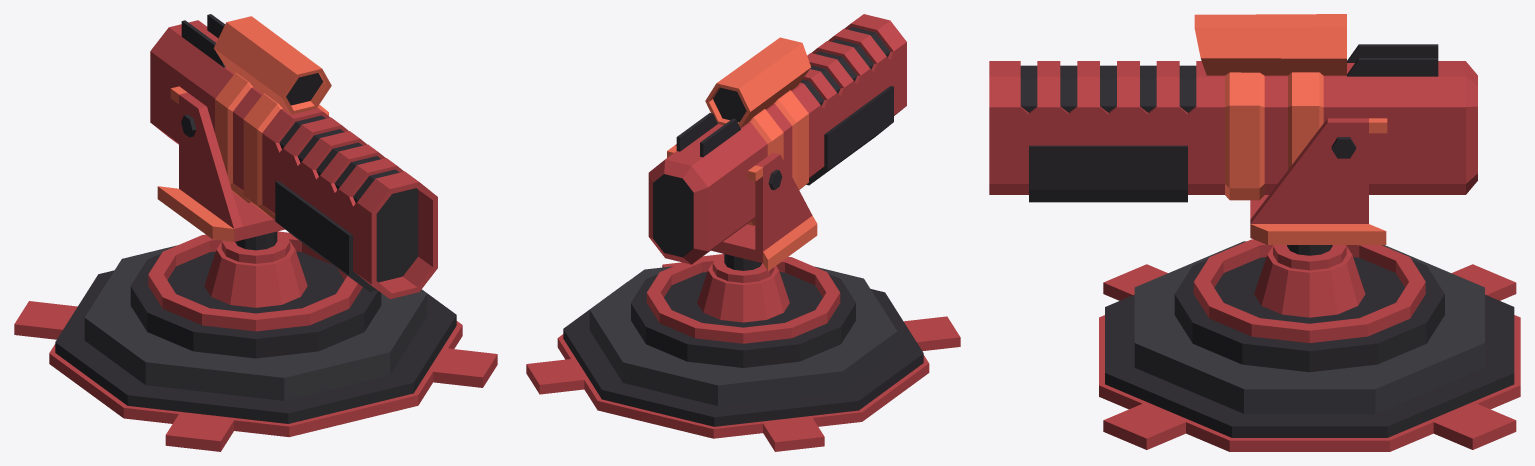
Rendered from upg_scout2.fbx.
The picture shows the model from 3 angles, left to right: view 1: azimuth 30°, elevation 25°; view 2: azimuth 150°, elevation 25°; view 3: azimuth 270°, elevation 25°; orthographic projection. The views are drawn at different scales.
Visible parts, largest first — view 1: Cube.004, Cube.003; view 2: Cube.004, Cube.003; view 3: Cube.003, Cube.004.
Part boxes in pixels (left/top/right/bottom): Cube.004: left=14, top=231, right=497, bottom=451; Cube.003: left=150, top=14, right=437, bottom=299; Cube.004: left=526, top=253, right=960, bottom=451; Cube.003: left=648, top=14, right=906, bottom=271; Cube.003: left=989, top=14, right=1477, bottom=255; Cube.004: left=1099, top=239, right=1520, bottom=451.
Size of the model in its own units: 181 by 162 by 228.
